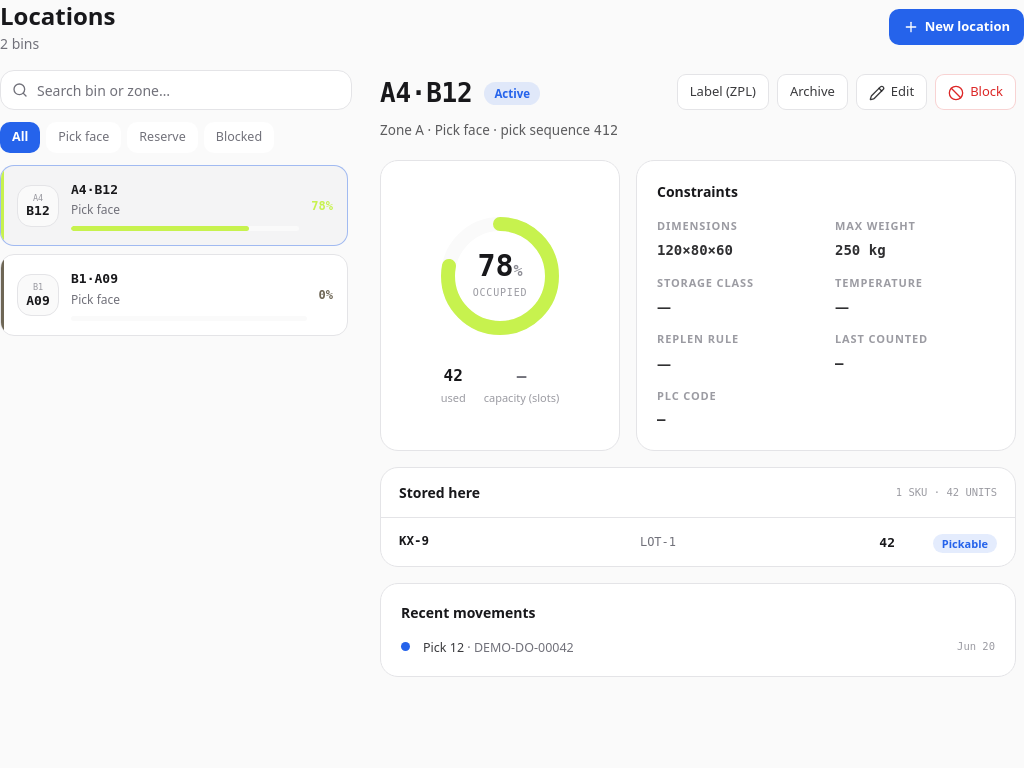
Test case: LocationsPage › New location button opens the create dialog
The image size is (1024, 768).
Click the button "New location" at (956, 27), box [889,9,1023,45]
(page scrolled)
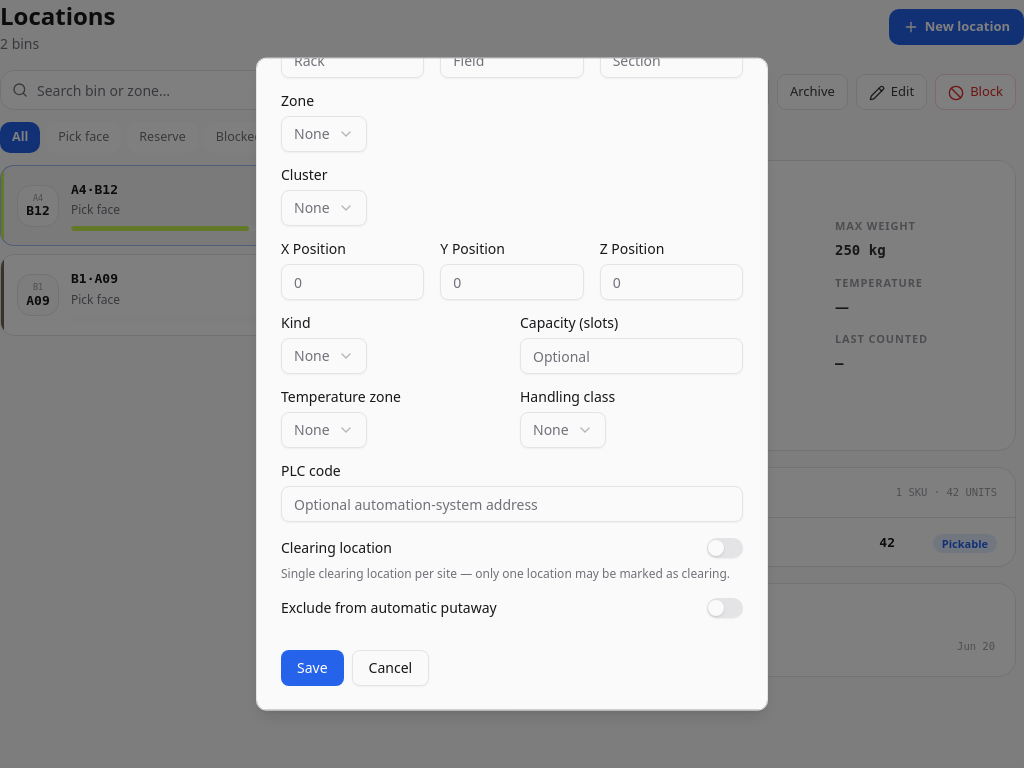
Result: the button "Save" is shown at [281,650,344,686]
